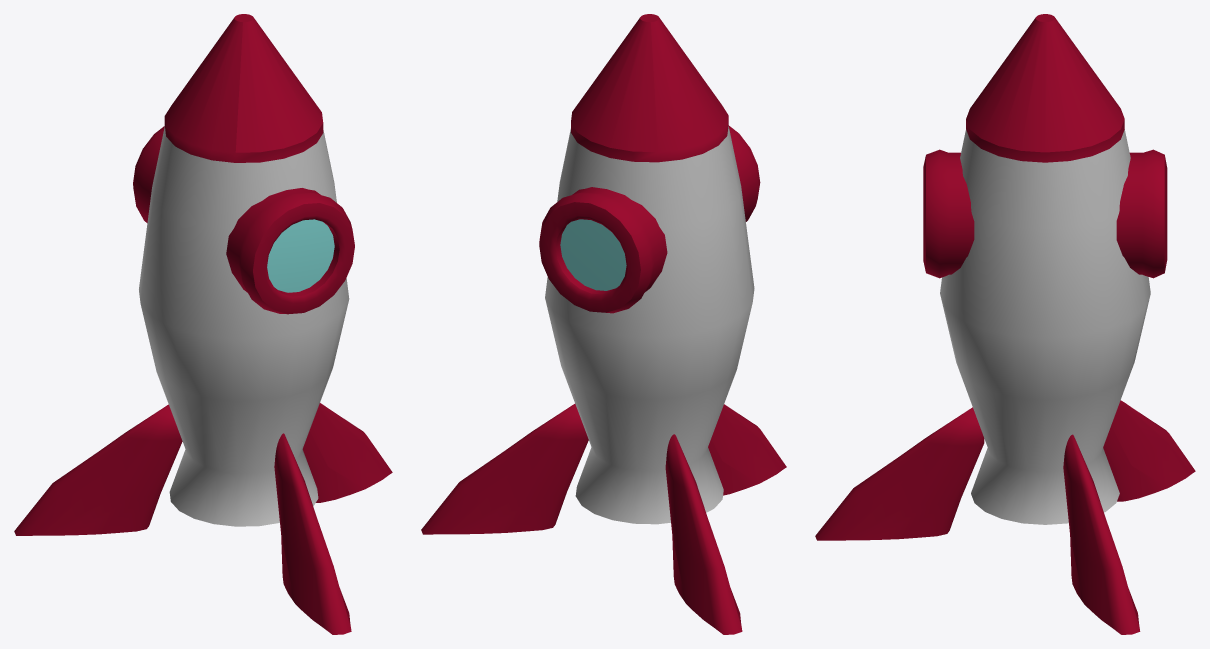
The model's file is Cohete.obj.
The picture shows the model from 3 angles, left to right: view 1: azimuth 30°, elevation 25°; view 2: azimuth 150°, elevation 25°; view 3: azimuth 270°, elevation 25°; orthographic projection.
Parts seen in each view (by area): view 1: group3_pCone1; view 2: group3_pCone1; view 3: group3_pCone1.
Boxes of the visible parts, x1,y1,x2,y2 form: group3_pCone1: [14, 14, 392, 634]; group3_pCone1: [421, 14, 786, 634]; group3_pCone1: [815, 14, 1195, 634].
Size of the model in its own units: 4.4 by 6.38 by 4.19.
